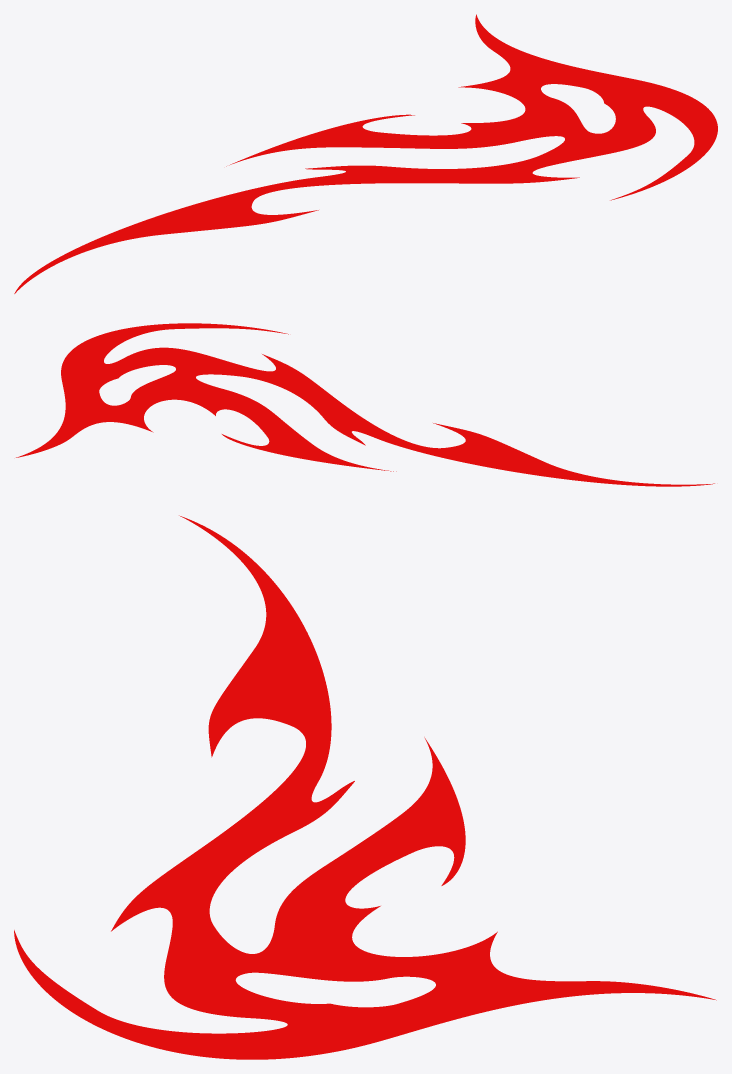
Rendered from Agilism.glb.
The picture shows the model from 3 angles, top to bottom: view 1: azimuth 30°, elevation 25°; view 2: azimuth 150°, elevation 25°; view 3: azimuth 270°, elevation 25°; orthographic projection. The views are drawn at different scales.
Visible parts, largest first — view 1: Curve; view 2: Curve; view 3: Curve.
Boxes of the visible parts, x1=… form: Curve: x1=14, y1=14, x2=717, y2=293; Curve: x1=16, y1=323, x2=714, y2=486; Curve: x1=14, y1=515, x2=716, y2=1059.
Bounding box in the file's own units: 0.1673 × 0 × 0.0914.
